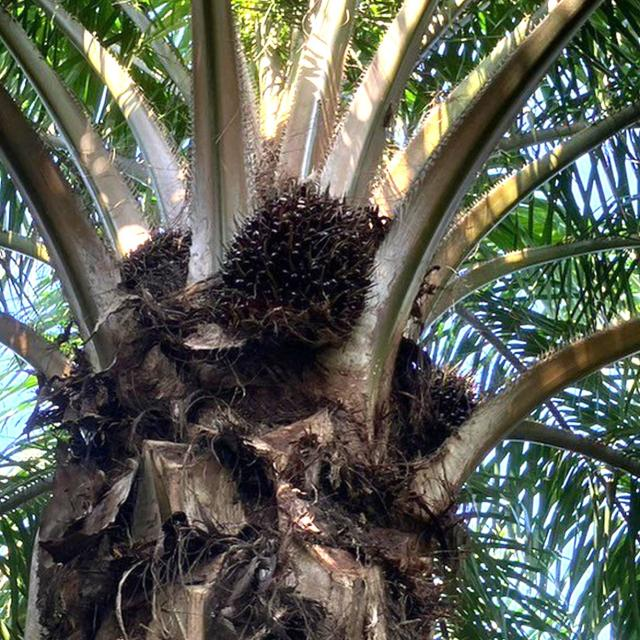ripe: (206, 182, 378, 343)
